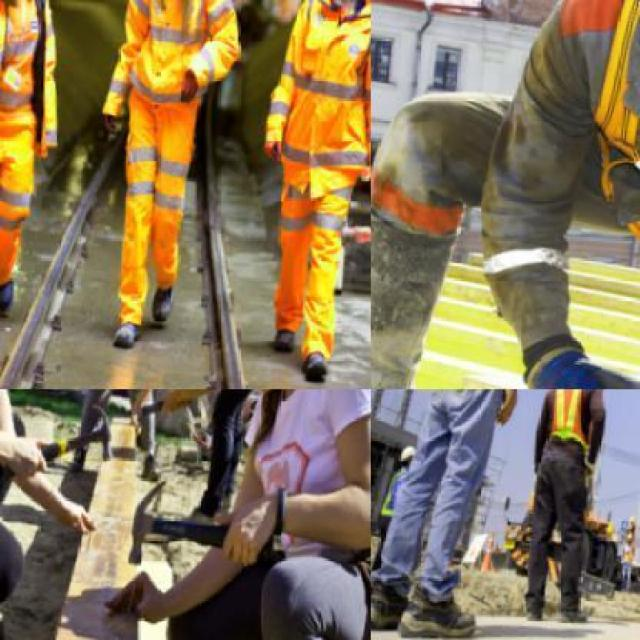Vest: (472, 0, 638, 388), (98, 0, 262, 149), (257, 0, 369, 200), (0, 0, 86, 182), (546, 390, 603, 456), (386, 466, 417, 528)
